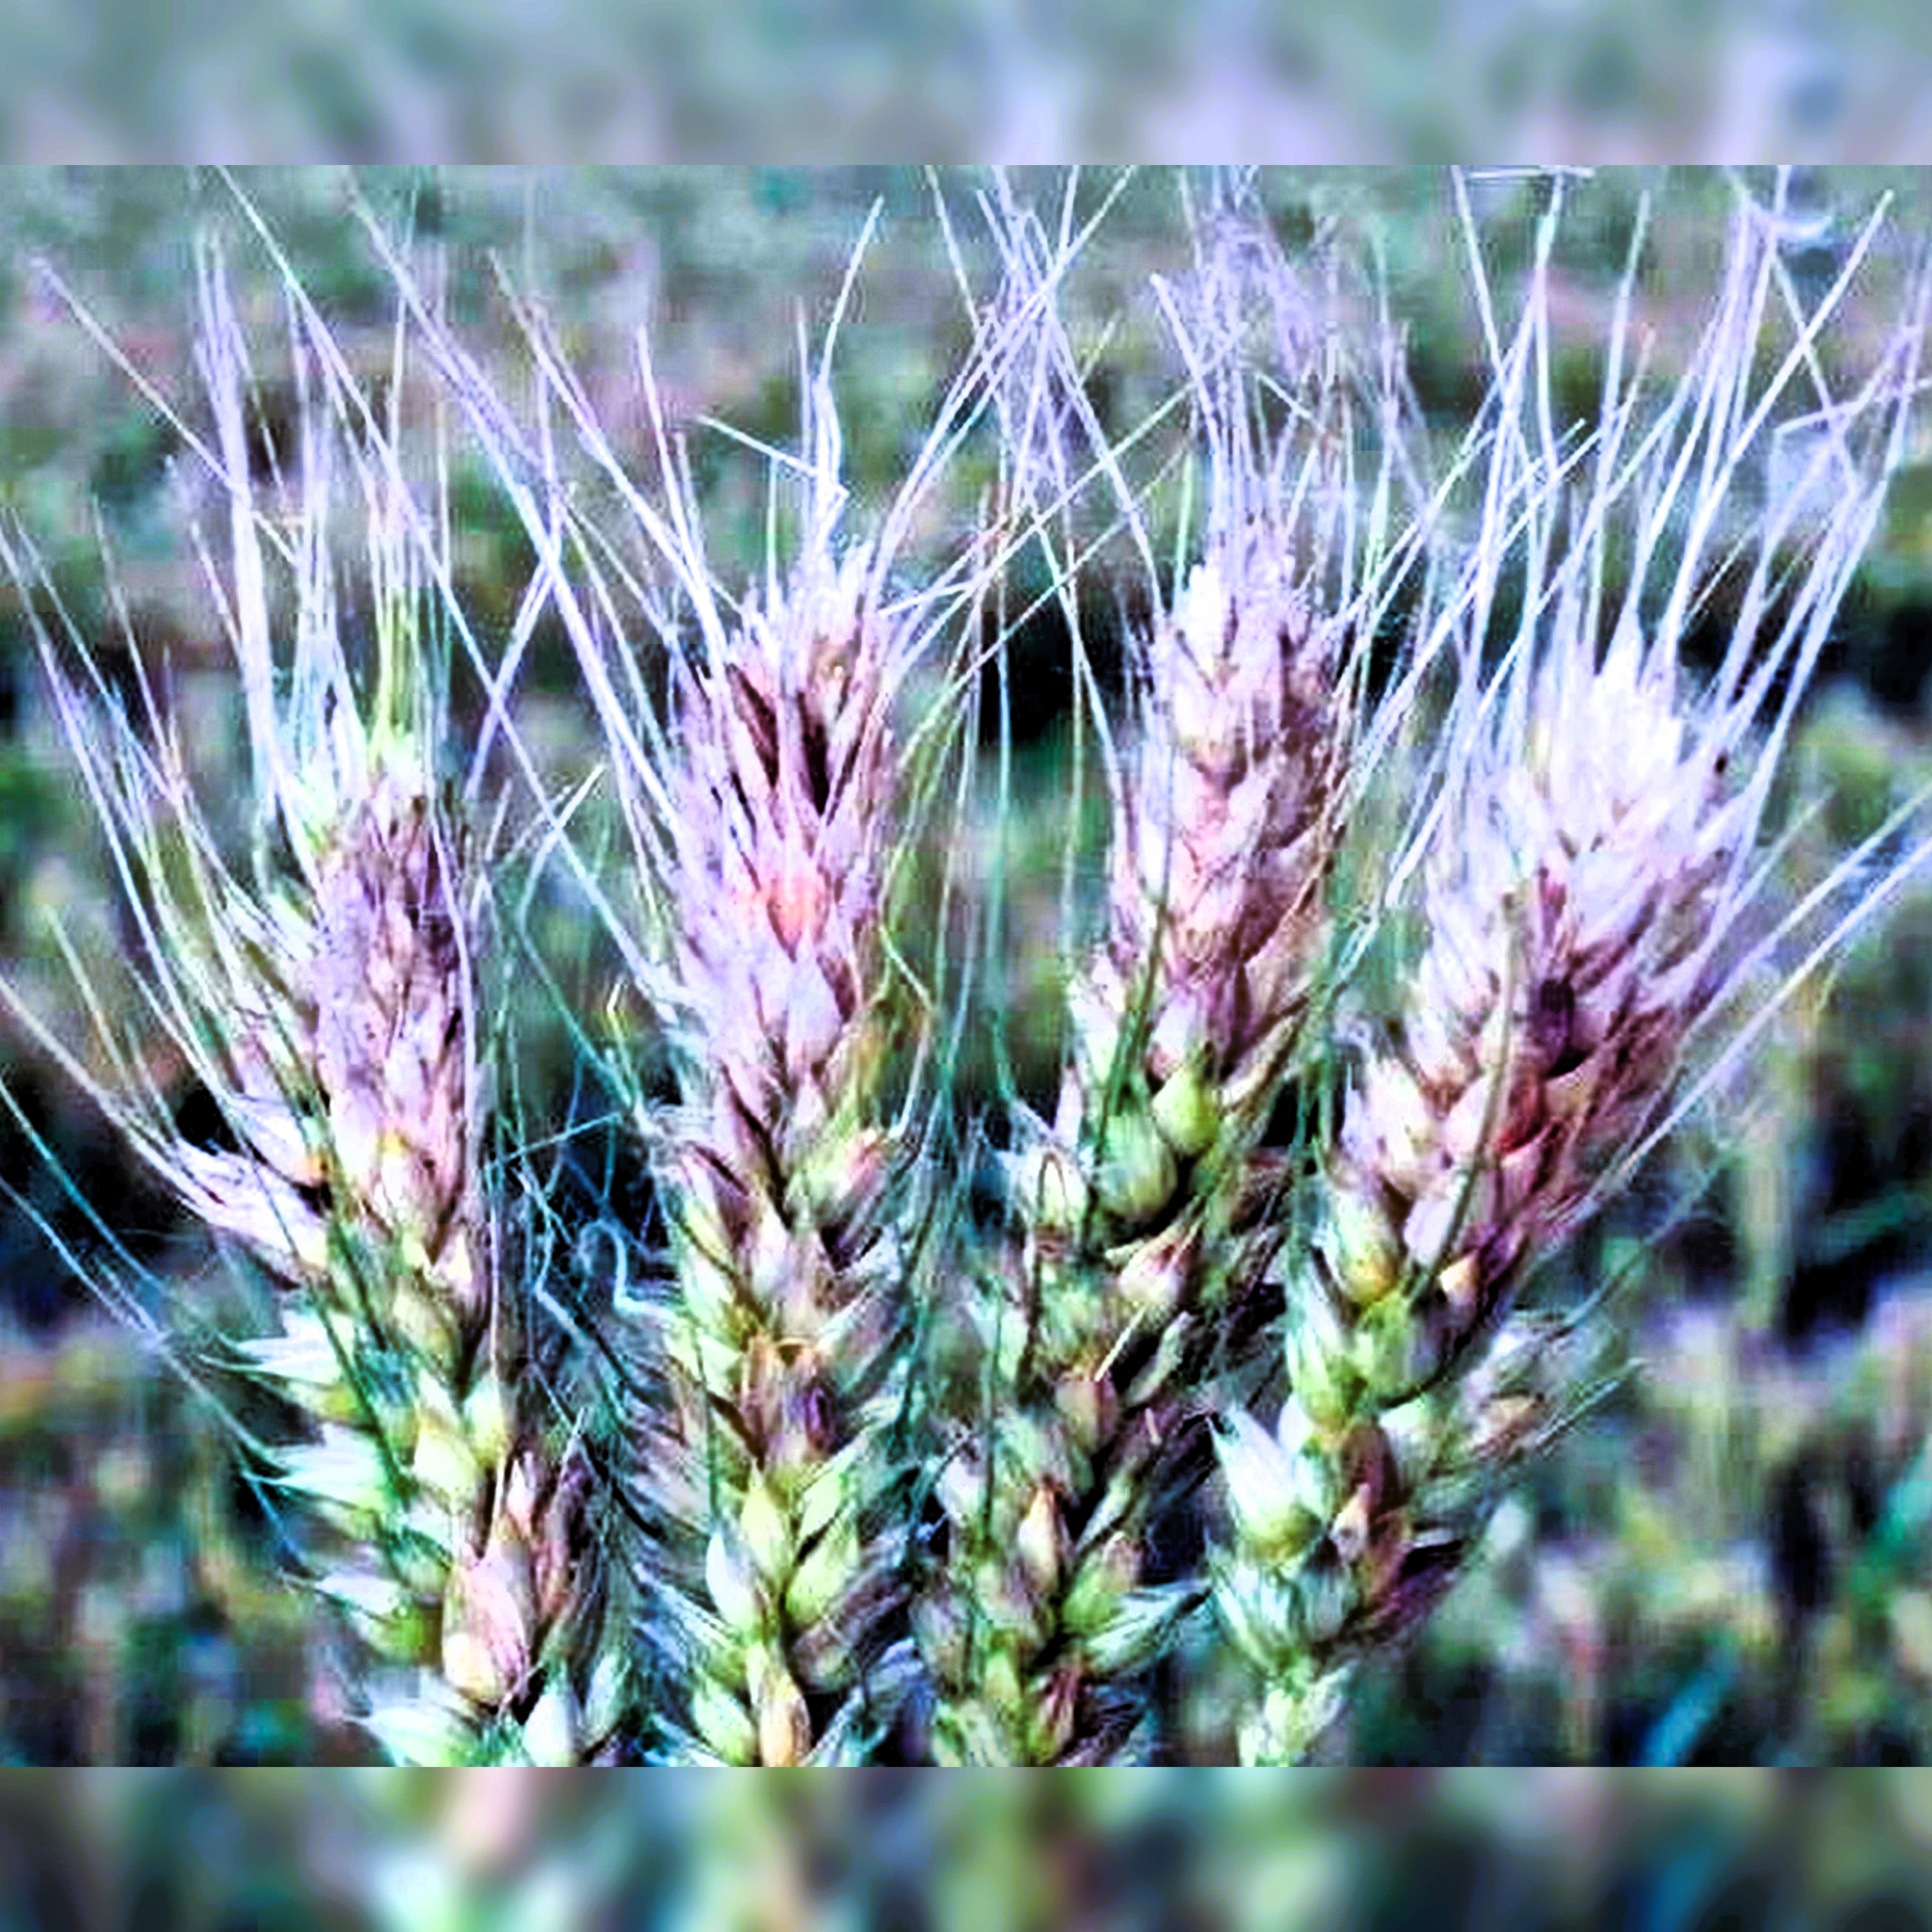Wheat scab: (625, 525, 931, 1764)
